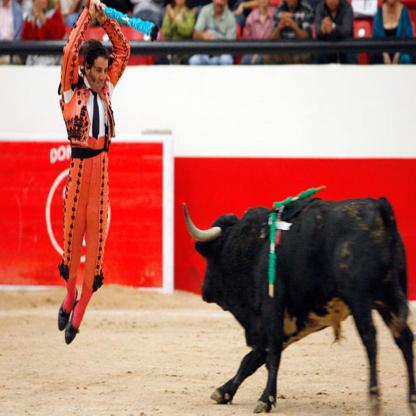face: (88, 56, 109, 93), (214, 1, 226, 13), (34, 1, 43, 16)
